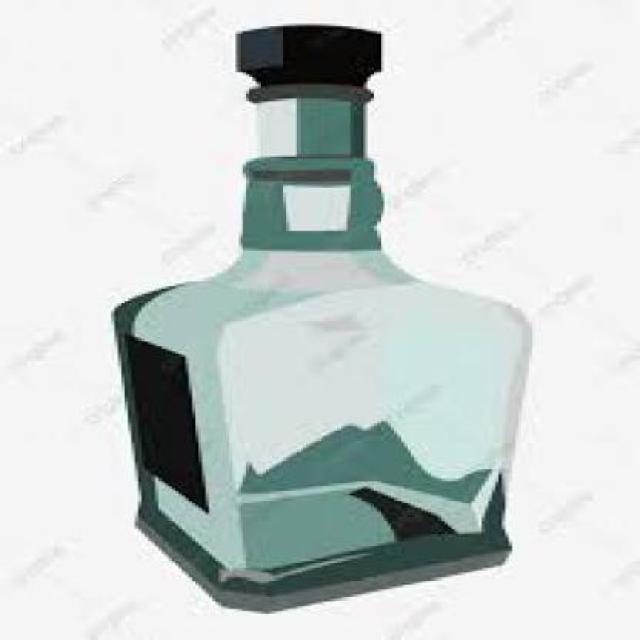kaca: (108, 80, 526, 606)
